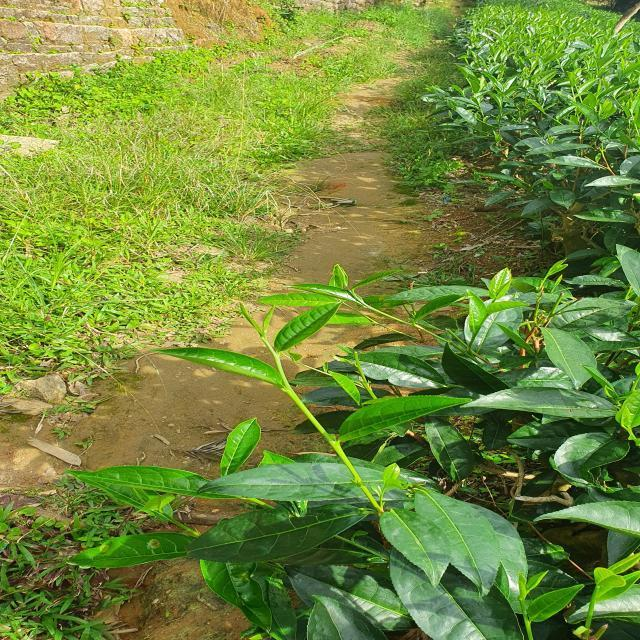Stem: (287, 388, 301, 404), (519, 599, 527, 616), (366, 305, 377, 312), (490, 299, 495, 303)
